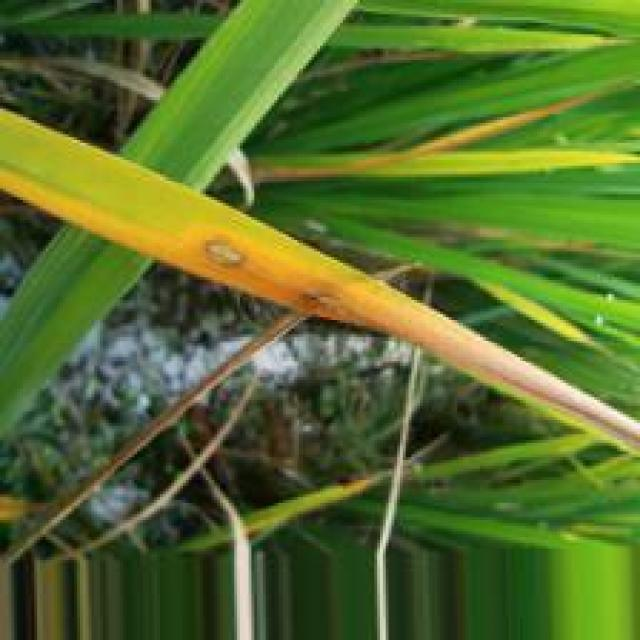Leaf_Scald: (227, 253, 639, 449), (197, 235, 249, 270)
